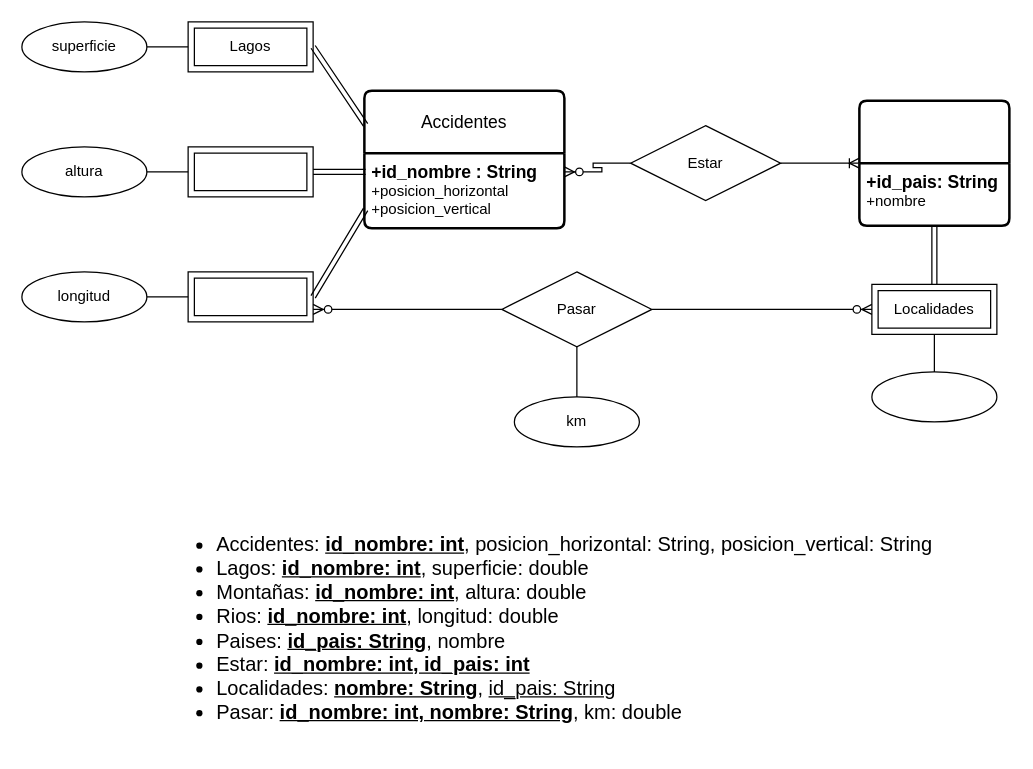
This 1033x769 diagram has some shape labels left out. Each missing label, with the box of its shape:
Montañas: (187, 146, 313, 197)
nombre: (871, 371, 997, 422)
Paises: (858, 99, 1010, 226)
Rios: (187, 271, 313, 322)
